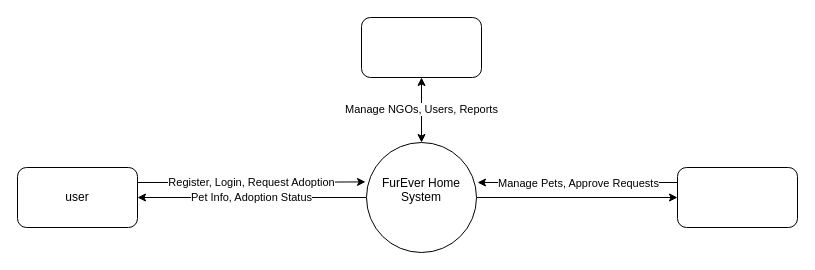
Some shapes in this 815 by 270 pixel diagram are drawn without their labels. Here are the shapes that lost their labels. From the top down, the centre of each, then its label:
the point at 421,47: admin
the point at 737,197: NGO
